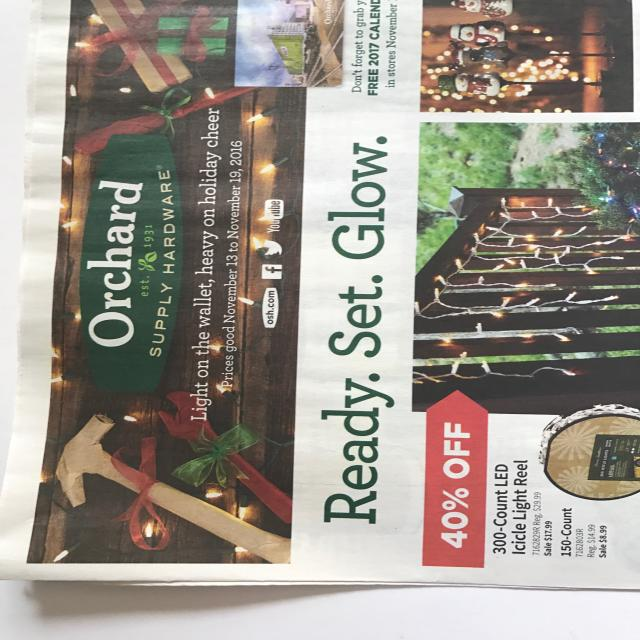Paper: (20, 4, 640, 616)
